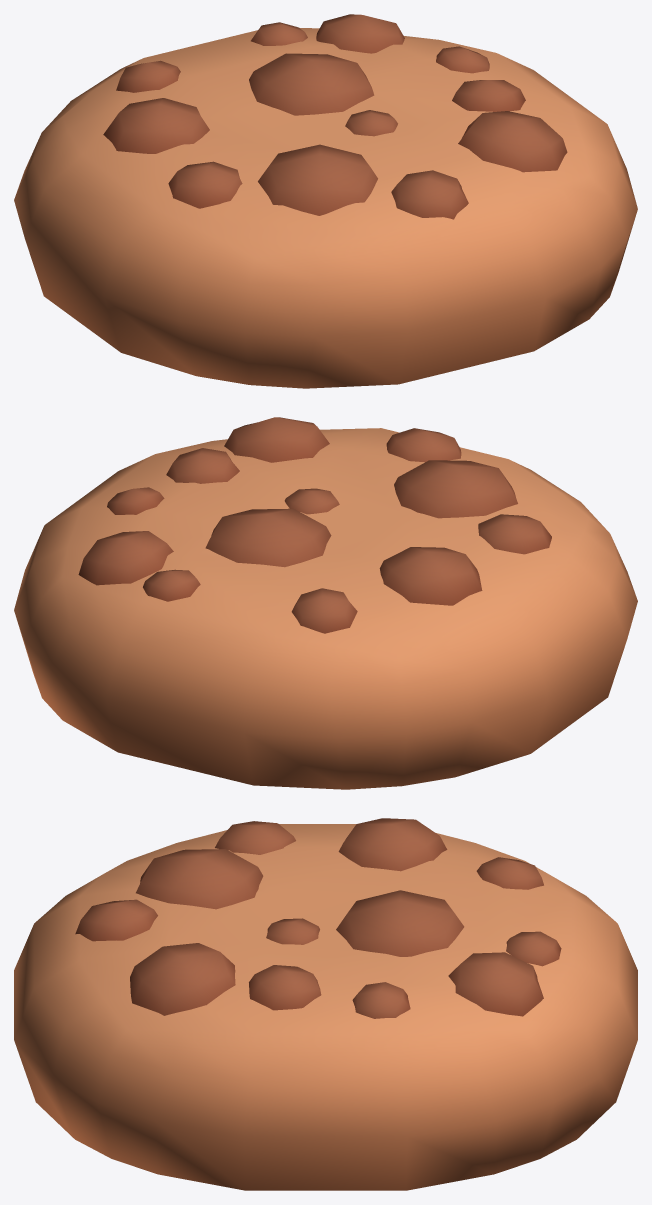
Rendered from cookie.glb.
The picture shows the model from 3 angles, top to bottom: view 1: azimuth 30°, elevation 25°; view 2: azimuth 150°, elevation 25°; view 3: azimuth 270°, elevation 25°; orthographic projection. The views are drawn at different scales.
Visible parts, largest first — view 1: cookie; view 2: cookie; view 3: cookie.
Part boxes in pixels (bbox=[...]): cookie: bbox=[14, 14, 637, 388]; cookie: bbox=[14, 417, 637, 789]; cookie: bbox=[14, 818, 637, 1190].
Size of the model in its own units: 0.492 by 0.1635 by 0.4918.
1 material, 1 textured.
